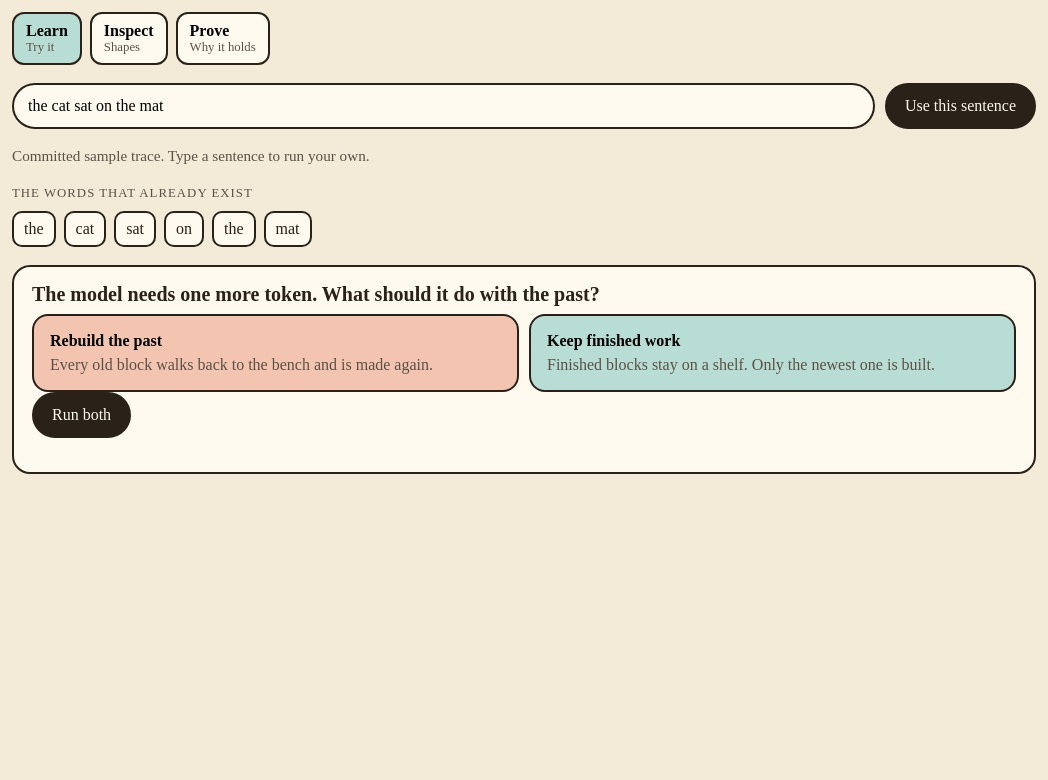
Test: experiment 01 playground › switching policy clears the walk
Click the button "Every old block walks back" at (276, 353), box [32,314,519,392]
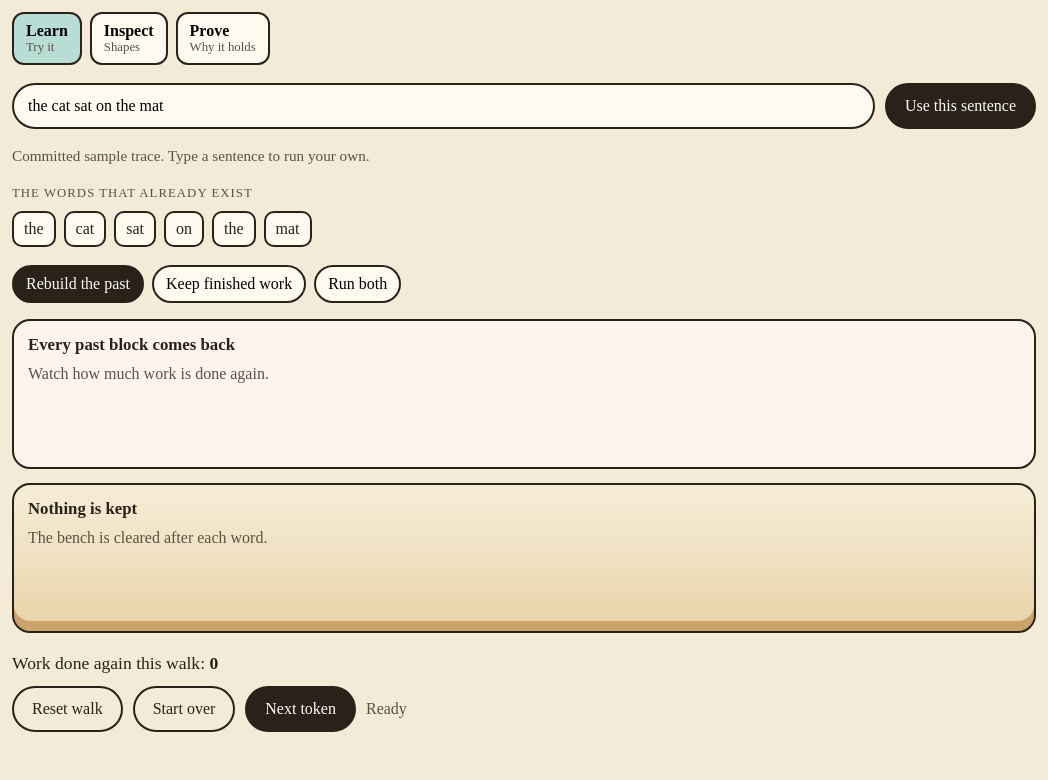
Click the button "Next token" at (301, 709), box [245,686,356,732]
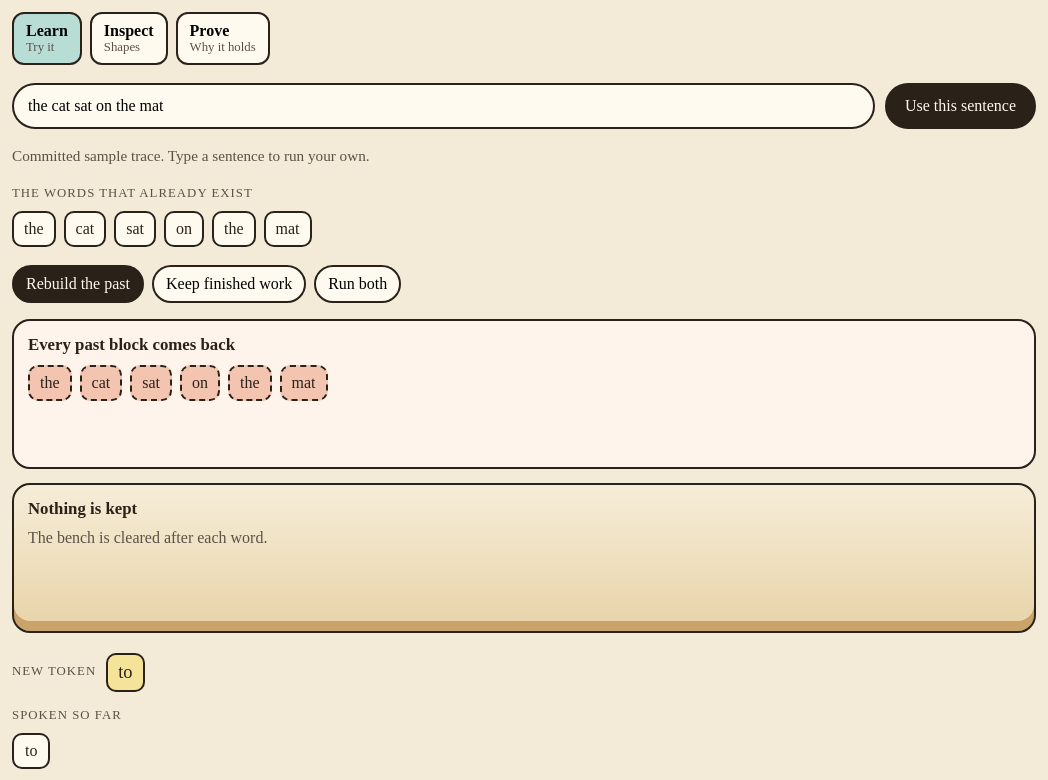
Click the button "Keep finished work" at (229, 284), box [152,265,306,303]
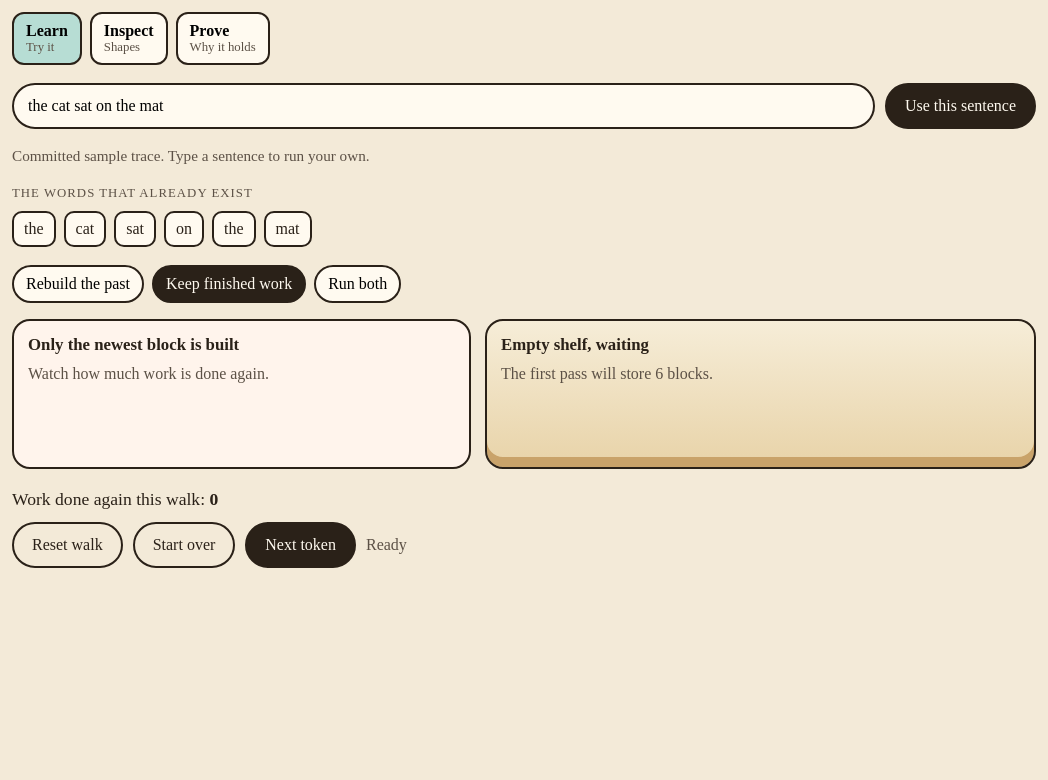
Expected: the text "Ready" is shown, [366,536,407,554]
